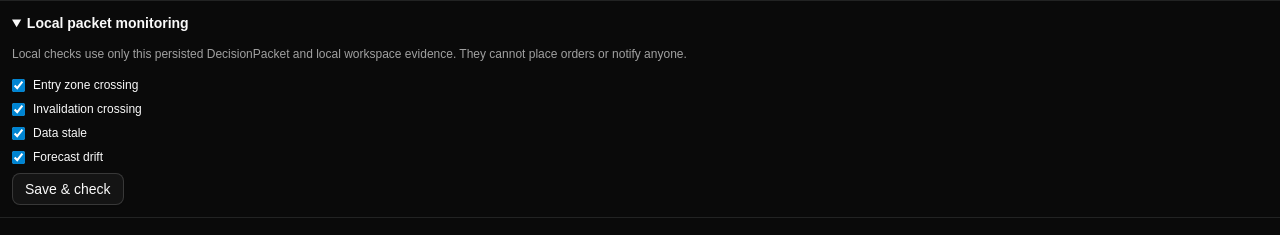
Scenario: PacketMonitoring › does not leak a failed save into a switched packet context
Expected: the checkbox labelled "Entry zone crossing" is shown, [12,78,25,92]
Click the button "Save & check" at (68, 188), box [12,172,124,204]
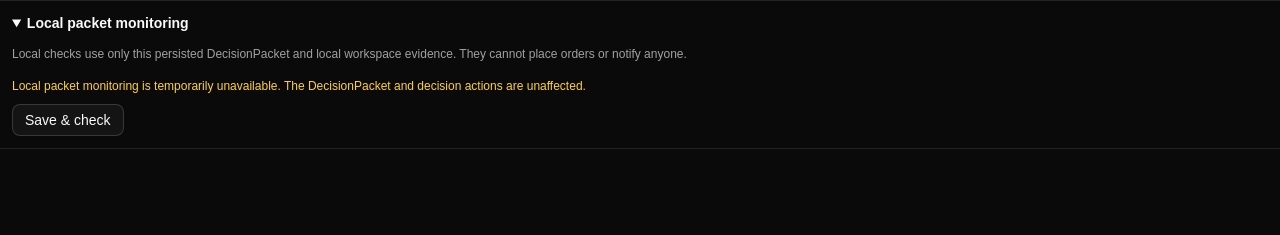
Expected: the text "Local packet monitoring is temporarily unavailable. The DecisionPacket and decision actions are unaffected." is shown, [12,78,586,92]
